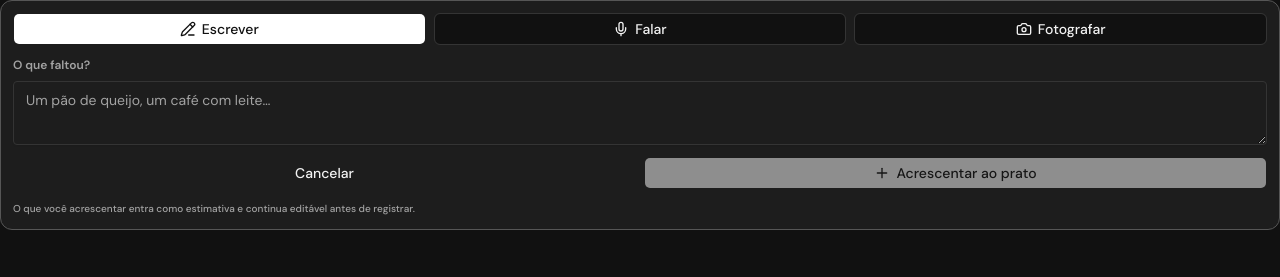
Test: AcrescentarAlimento › falha da IA não acrescenta nada e preserva o que foi escrito
Type "um pão de queijo" into the text box labelled "O que faltou?" at (640, 113), box [13, 81, 1267, 145]
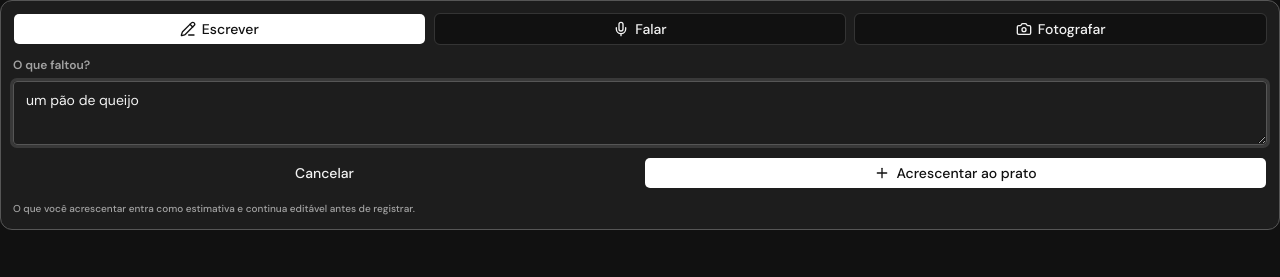
Click the button "Acrescentar ao prato" at (956, 173), box [644, 157, 1267, 189]
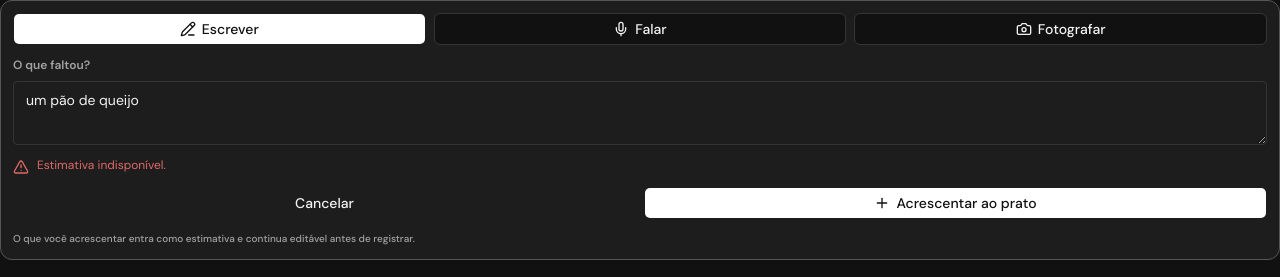
Check: the text "Estimativa indisponível." is shown, box [13, 157, 166, 175]
